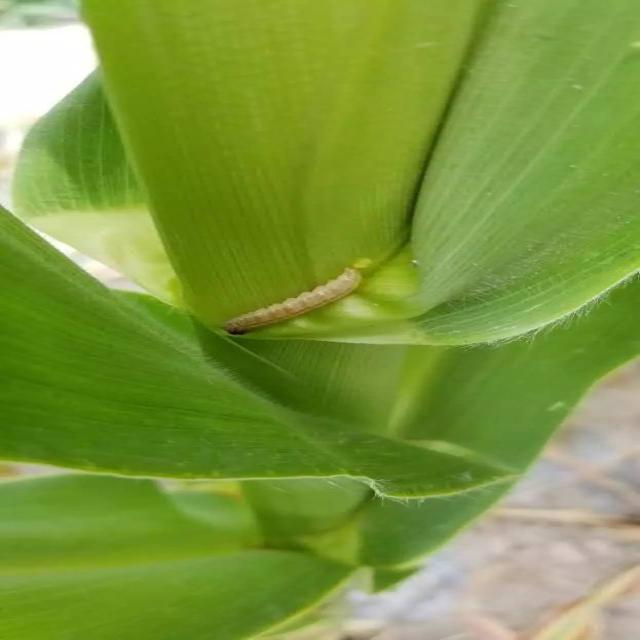pest: (221, 264, 362, 335)
